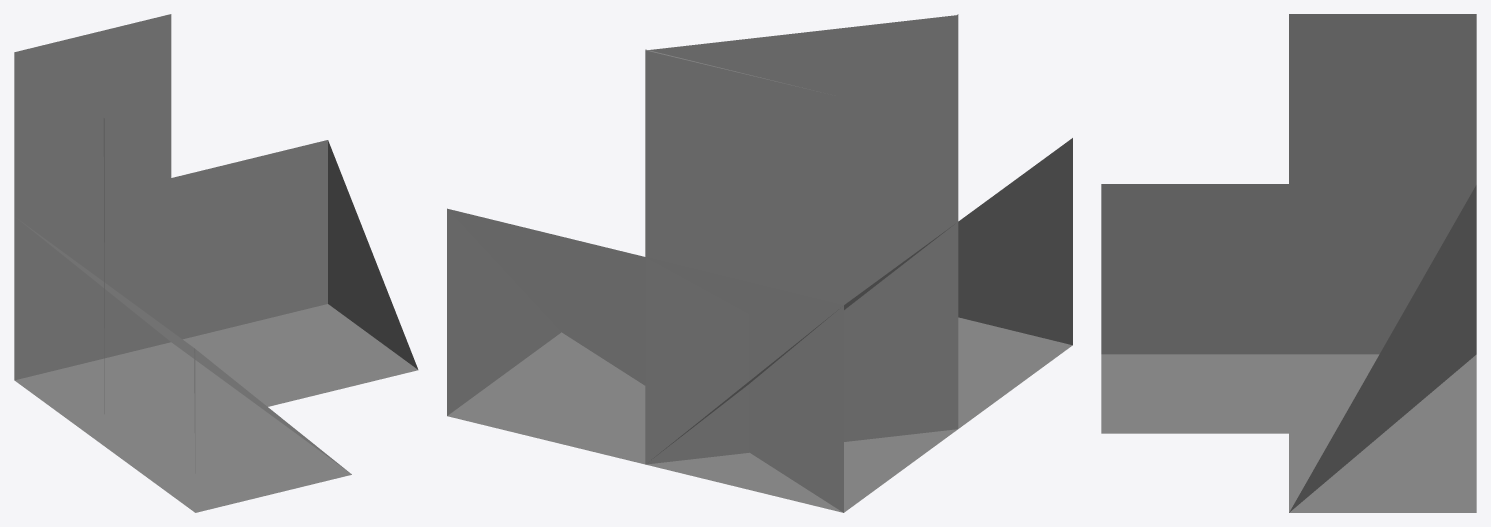
Rendered from r5c5_border_grey.gltf.
3 renders of one model, left to right at view 1: azimuth 30°, elevation 25°; view 2: azimuth 150°, elevation 25°; view 3: azimuth 270°, elevation 25°, orthographic. The views are drawn at different scales.
Visible parts, largest first — view 1: r5c5_border_grey; view 2: r5c5_border_grey; view 3: r5c5_border_grey.
Part boxes in pixels (x1,y1,x2,y2): r5c5_border_grey: [14, 14, 418, 512]; r5c5_border_grey: [447, 14, 1072, 512]; r5c5_border_grey: [1101, 14, 1476, 512].
Bounding box in the file's own units: 2.1 × 2.1 × 2.1.
Materials: 1 (1 with a texture image).
